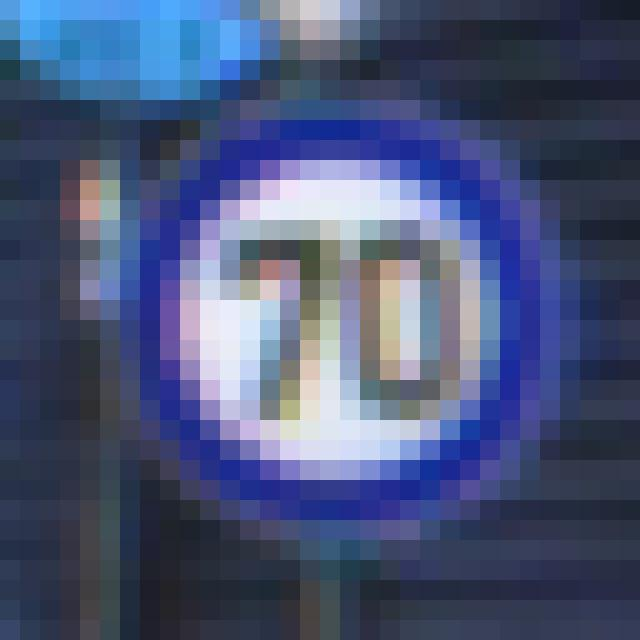SPEED LIMIT 70: (124, 117, 564, 547)
